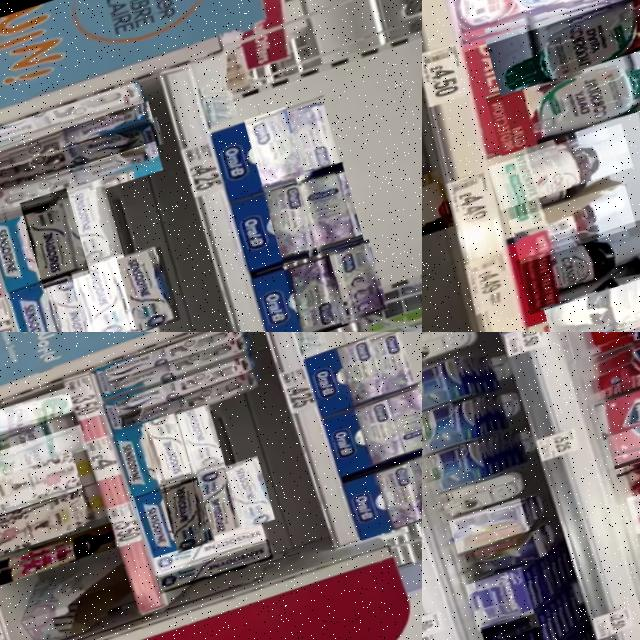Other: (483, 43, 640, 161), (486, 129, 631, 216), (513, 225, 640, 319), (506, 188, 634, 269), (0, 524, 116, 587), (0, 487, 93, 561), (541, 270, 640, 332), (0, 452, 80, 525), (0, 426, 85, 485), (0, 407, 82, 468), (576, 332, 640, 409), (458, 530, 545, 586), (463, 570, 533, 636), (447, 501, 527, 556), (0, 388, 73, 447), (422, 439, 483, 501), (592, 371, 640, 444), (422, 399, 473, 461), (557, 332, 640, 368), (604, 435, 640, 510), (422, 172, 453, 254), (422, 355, 462, 418), (604, 406, 640, 474), (479, 615, 547, 640)
Toothbrush: (0, 119, 162, 206), (0, 144, 161, 227), (0, 104, 151, 182), (0, 84, 143, 162), (97, 338, 256, 405), (109, 374, 260, 441), (107, 357, 255, 423), (93, 332, 248, 389)
Toothpaste: (18, 189, 88, 292), (55, 180, 123, 277), (153, 543, 272, 598), (295, 167, 362, 263), (151, 527, 265, 581), (318, 244, 386, 332), (259, 175, 320, 273), (110, 249, 178, 332), (242, 111, 304, 199), (277, 106, 340, 187), (281, 255, 346, 332), (68, 259, 135, 332), (333, 341, 390, 416), (159, 480, 213, 558), (350, 401, 406, 475), (220, 459, 273, 536), (141, 416, 192, 495), (175, 408, 225, 484), (366, 333, 416, 405), (191, 473, 240, 546), (43, 272, 101, 332), (374, 466, 422, 538), (381, 390, 422, 465), (404, 457, 422, 526)
